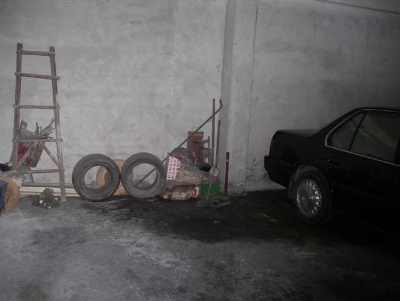tire: (71, 153, 121, 202), (120, 151, 168, 199)
